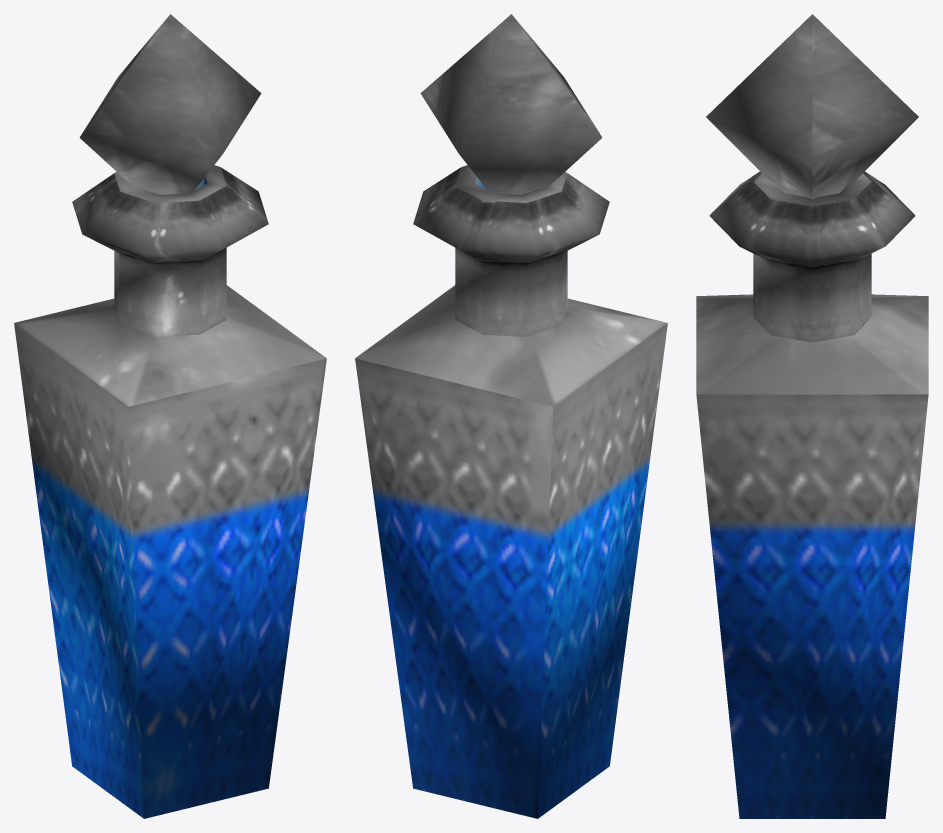
File: portion_blue.fbx
The picture shows the model from 3 angles, left to right: view 1: azimuth 30°, elevation 25°; view 2: azimuth 150°, elevation 25°; view 3: azimuth 270°, elevation 25°; orthographic projection.
Visible parts, largest first — view 1: portion_blue; view 2: portion_blue; view 3: portion_blue.
Boxes of the visible parts, x1,y1,x2,y2 form: portion_blue: (14, 14, 326, 818); portion_blue: (355, 14, 667, 818); portion_blue: (696, 14, 928, 818).
Bounding box in the file's own units: 11.67 × 42.92 × 11.67.
